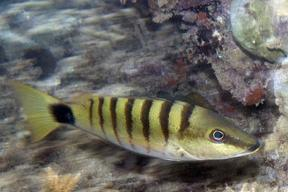Lutjanidae -Snappers-: (6, 72, 262, 167)
